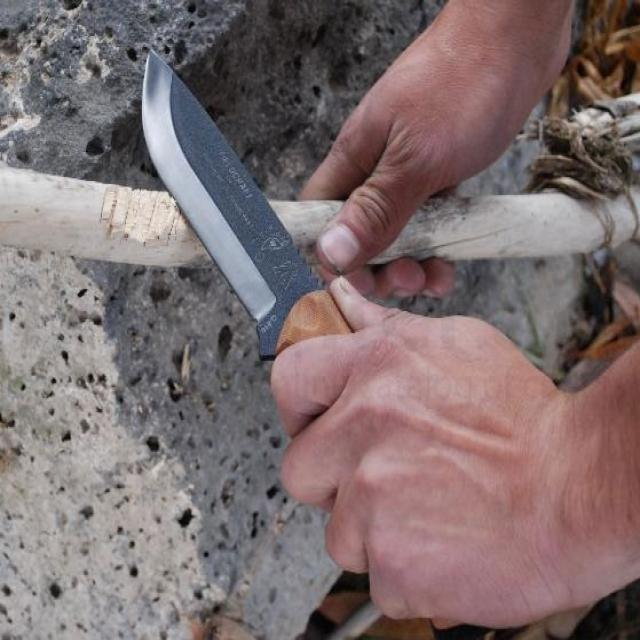knife: (138, 43, 362, 372)
